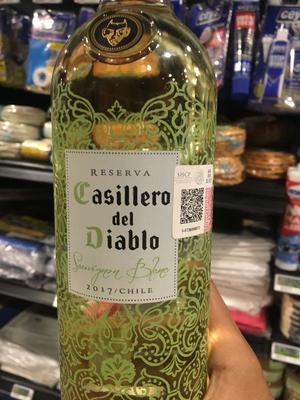casillero del diablo sauvignon blanc: (44, 15, 224, 398)
